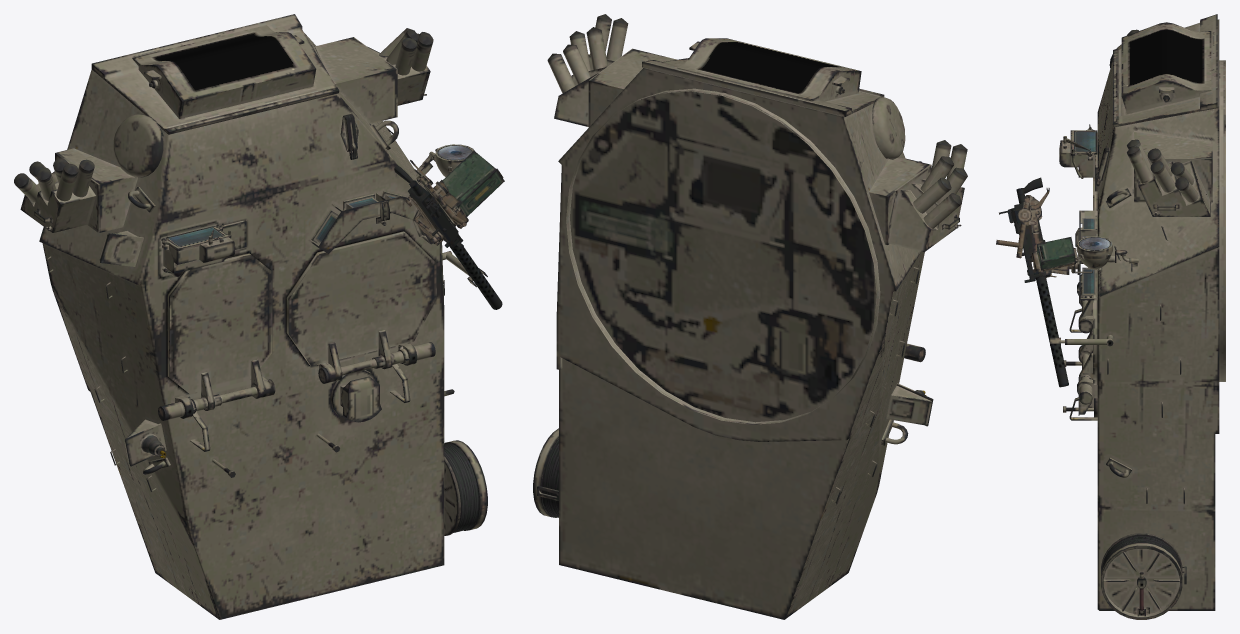
File: Turret_02.glb
3 renders of one model, left to right at view 1: azimuth 30°, elevation 25°; view 2: azimuth 150°, elevation 25°; view 3: azimuth 270°, elevation 25°, orthographic. The views are drawn at different scales.
Parts seen in each view (by area): view 1: set_0_group_0; view 2: set_0_group_0; view 3: set_0_group_0.
Part boxes in pixels (box(x1,y1,x2,y2)): set_0_group_0: box(14, 14, 504, 619); set_0_group_0: box(533, 14, 967, 619); set_0_group_0: box(996, 14, 1225, 619).
Size of the model in its own units: 2.17 by 2.58 by 1.12.
Materials: 1 (1 with a texture image).
